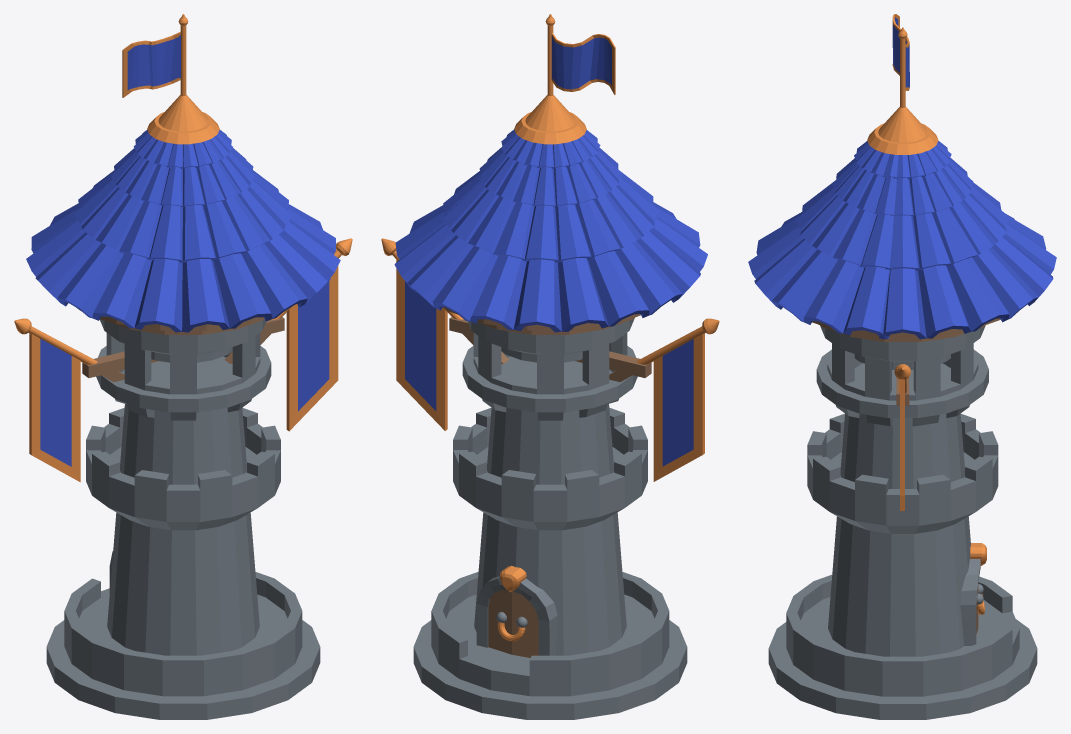
File: Tower x2.fbx
3 views of the same model, side by side, from view 1: azimuth 30°, elevation 25°; view 2: azimuth 150°, elevation 25°; view 3: azimuth 270°, elevation 25° (orthographic).
Parts seen in each view (by area): view 1: Cylinder.001, Cylinder.002, Plane, Cylinder.004, Cylinder.005, Cylinder.003, Plane.001, Cylinder.081, Cylinder.021, Cylinder.022, Cylinder.023, Cylinder.020 (+27 smaller); view 2: Cylinder.002, Cylinder.001, Cylinder.004, Plane, Cylinder.005, Cylinder.003, Plane.001, Cylinder.081, Cylinder.015, Cylinder.016, Cylinder.014, Cube.005 (+29 smaller); view 3: Cylinder.001, Cylinder.002, Cylinder.004, Cylinder.005, Cylinder.003, Cylinder.081, Cylinder.010, Cylinder.026, Cylinder.011, Cylinder.009, Cylinder.027, Cylinder.025 (+26 smaller).
Boxes of the visible parts, box(x1,y1,x2,y2) form: Cylinder.001: box(107, 356, 259, 655); Cylinder.002: box(46, 571, 320, 719); Plane: box(29, 266, 338, 482); Cylinder.004: box(86, 407, 280, 530); Cylinder.005: box(96, 333, 271, 420); Cylinder.003: box(99, 319, 266, 362); Plane.001: box(122, 32, 180, 97); Cylinder.081: box(147, 14, 219, 144); Cylinder.021: box(134, 259, 182, 332); Cylinder.022: box(182, 259, 229, 332); Cylinder.023: box(213, 253, 272, 328); Cylinder.020: box(92, 253, 151, 328); Cylinder.002: box(413, 571, 687, 719); Cylinder.001: box(474, 356, 626, 655); Cylinder.004: box(453, 407, 647, 530); Plane: box(396, 260, 704, 481); Cylinder.005: box(462, 333, 637, 420); Cylinder.003: box(467, 318, 634, 362); Plane.001: box(551, 33, 615, 94); Cylinder.081: box(514, 14, 586, 144); Cylinder.015: box(513, 259, 561, 332); Cylinder.016: box(558, 258, 608, 331); Cylinder.014: box(469, 255, 526, 329); Cube.005: box(476, 576, 557, 655); Cylinder.001: box(828, 363, 970, 656); Cylinder.002: box(768, 574, 1037, 719); Cylinder.004: box(807, 413, 998, 533); Cylinder.005: box(816, 343, 988, 426); Cylinder.003: box(820, 326, 985, 369); Cylinder.081: box(867, 27, 938, 154); Cylinder.010: box(918, 265, 971, 338); Cylinder.026: box(803, 259, 863, 333); Cylinder.011: box(947, 257, 1009, 331); Cylinder.009: box(879, 268, 926, 339); Cylinder.027: box(843, 266, 889, 339); Cylinder.025: box(772, 249, 837, 321).
Size of the model in its own units: 5734 by 10520 by 4623.
